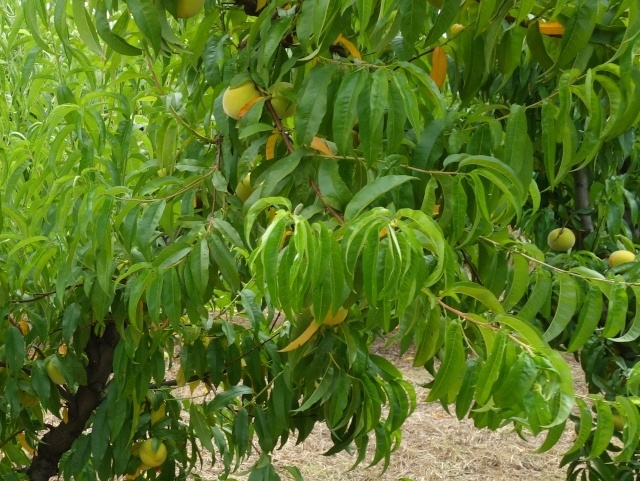peach: (219, 72, 262, 123), (265, 78, 302, 120), (308, 296, 351, 327), (136, 435, 170, 471), (545, 223, 576, 258), (606, 244, 639, 276), (40, 357, 70, 389)
